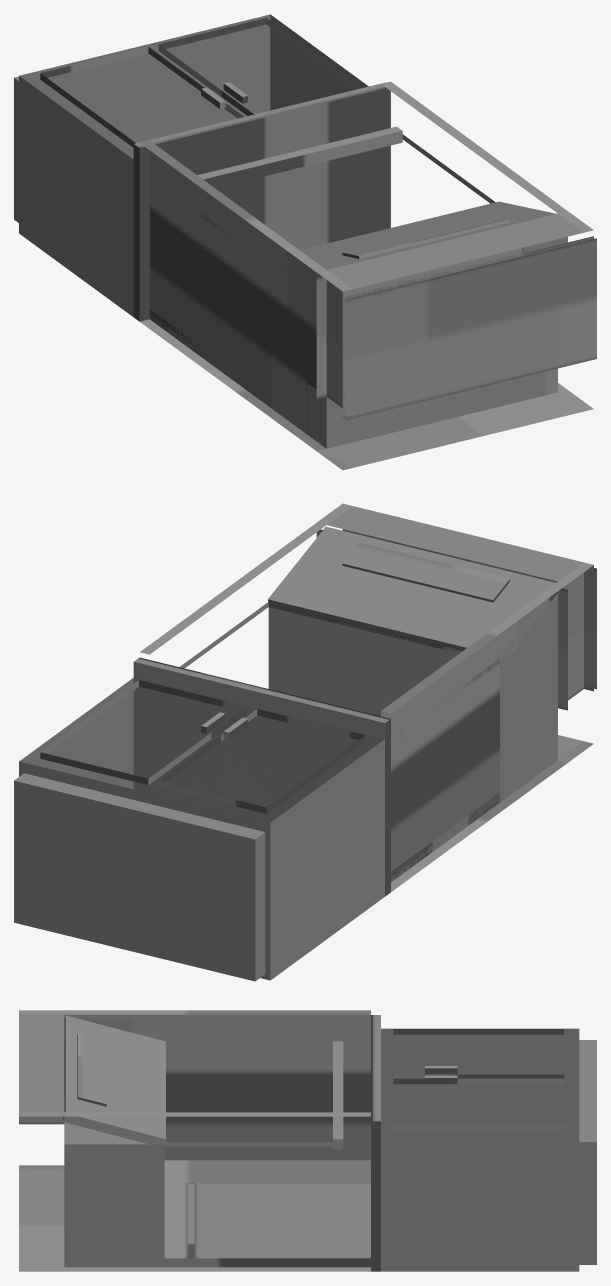
3 views of the same model, one above another, from view 1: azimuth 30°, elevation 25°; view 2: azimuth 150°, elevation 25°; view 3: azimuth 270°, elevation 25° (orthographic). The views are drawn at different scales.
Size of the model in its own units: 1 by 0.68 by 2.32.
